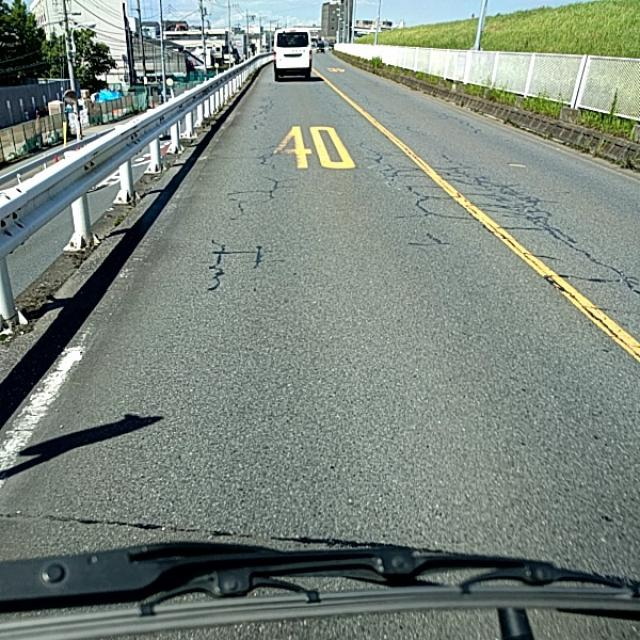pothole: (364, 152, 554, 262)
